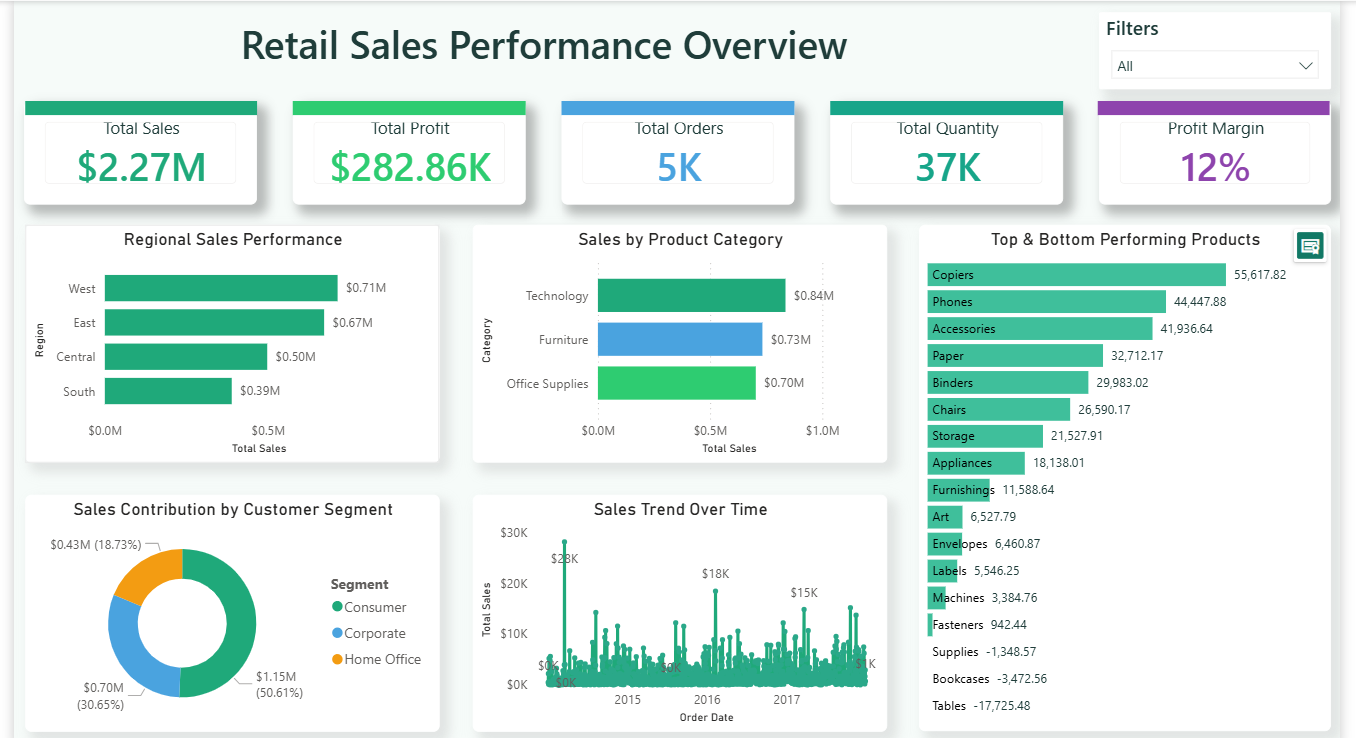

The dashboard page shown, as its layout file describes it:
{"tool":"powerbi","page":{"name":"Page 1","canvas":[1280,720],"ordinal":0},"visuals":[{"type":"textbox","box":[10.7,10.7,1001.3,66.7],"z":0},{"type":"slicer","title":"Filters","fields":{"Values":["superstore_db sample - superstore.Region","superstore_db sample - superstore.Category","superstore_db sample - superstore.Segment","superstore_db sample - superstore.Order Date"]},"box":[1046.7,10.7,224,74.7],"z":1000},{"type":"cardVisual","fields":{"Data":["superstore.Total Sales"]},"box":[10,96.2,225,100],"z":2000},{"type":"cardVisual","fields":{"Data":["superstore.Total Profit"]},"box":[268.7,96.2,225,100],"z":3000},{"type":"cardVisual","fields":{"Data":["superstore.Total Orders"]},"box":[528.6,96.2,225,100.1],"z":4000},{"type":"cardVisual","fields":{"Data":["superstore.Total Quantity"]},"box":[787.9,96.2,225,100.1],"z":5000},{"type":"cardVisual","fields":{"Data":["superstore.Profit Margin"]},"box":[1047.2,96.2,224,100.1],"z":6000},{"type":"lineChart","title":"Sales Trend Over Time","fields":{"Category":["superstore.Order Date"],"Y":["superstore.Total Sales"]},"box":[442.5,476.2,400,228.8],"z":7000},{"type":"clusteredBarChart","title":"Sales by Product Category","fields":{"Category":["superstore.Category"],"Y":["superstore.Total Sales"]},"box":[442.7,216,400,229.3],"z":8000},{"type":"clusteredBarChart","title":"Regional Sales Performance","fields":{"Category":["superstore.Region"],"Y":["superstore.Total Sales"]},"box":[10.7,216,400,229.3],"z":9000},{"type":"horizontalBarChartPBICraft","title":"Top & Bottom Performing Products","fields":{"category":["superstore.Sub-Category"],"measure":["Sum(superstore.Profit)"],"tooltip":["Sum(superstore.Sales)","Sum(superstore.Quantity)","Min(superstore.Segment)"]},"box":[873.8,216.2,397.5,488.8],"z":10000},{"type":"donutChart","title":"Sales Contribution by Customer Segment","fields":{"Category":["superstore.Segment"],"Y":["superstore.Total Sales"]},"box":[11.2,476.2,400,228.8],"z":11000},{"type":"shape","box":[11.2,96.2,223.8,13.8],"z":11001},{"type":"shape","box":[268.8,96.2,225,13.8],"z":11002},{"type":"shape","box":[528.8,96.2,225,13.8],"z":11003},{"type":"shape","box":[787.5,96.2,225,13.8],"z":11004},{"type":"shape","box":[1046.2,96.2,223.8,13.8],"z":11005}]}

Visuals, with their boxes on the page's 1280x720 design canvas (x1, y1, x2, y2). These are canvas units, not pixel positions in the 1356x738 screenshot, which may show the page scaled, cropped or inside an application window:
textbox: BBox(11, 11, 1012, 77)
"Filters" slicer: BBox(1047, 11, 1271, 85)
cardVisual - superstore.Total Sales: BBox(10, 96, 235, 196)
cardVisual - superstore.Total Profit: BBox(269, 96, 494, 196)
cardVisual - superstore.Total Orders: BBox(529, 96, 754, 196)
cardVisual - superstore.Total Quantity: BBox(788, 96, 1013, 196)
cardVisual - superstore.Profit Margin: BBox(1047, 96, 1271, 196)
"Sales Trend Over Time" lineChart: BBox(442, 476, 842, 705)
"Sales by Product Category" clusteredBarChart: BBox(443, 216, 843, 445)
"Regional Sales Performance" clusteredBarChart: BBox(11, 216, 411, 445)
"Top & Bottom Performing Products" horizontalBarChartPBICraft: BBox(874, 216, 1271, 705)
"Sales Contribution by Customer Segment" donutChart: BBox(11, 476, 411, 705)
shape: BBox(11, 96, 235, 110)
shape: BBox(269, 96, 494, 110)
shape: BBox(529, 96, 754, 110)
shape: BBox(788, 96, 1012, 110)
shape: BBox(1046, 96, 1270, 110)
